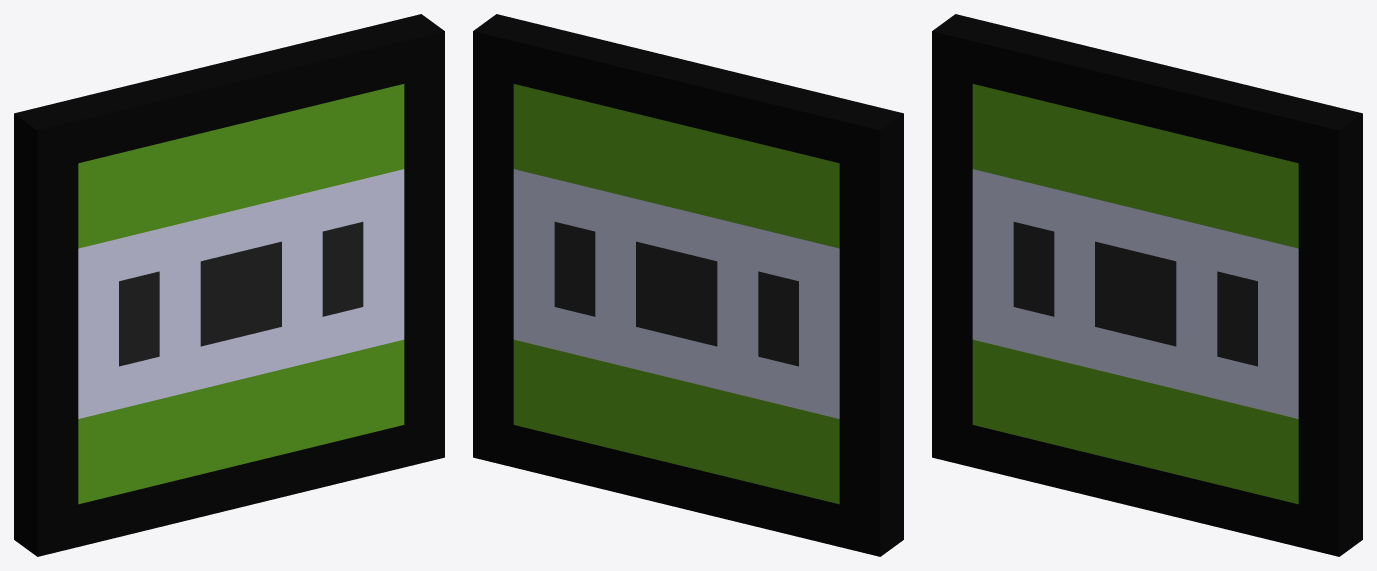
The model's file is Lime Paintball Explosive Item.glb.
3 views of the same model, side by side, from view 1: azimuth 30°, elevation 25°; view 2: azimuth 150°, elevation 25°; view 3: azimuth 330°, elevation 25° (orthographic).
Visible parts, largest first — view 1: generated; view 2: generated; view 3: generated.
Part boxes in pixels (left/top/right/bottom): generated: left=14, top=14, right=444, bottom=556; generated: left=473, top=14, right=903, bottom=556; generated: left=932, top=14, right=1362, bottom=556.
Bounding box in the file's own units: 10 × 10 × 1.
1 material, 1 textured.
